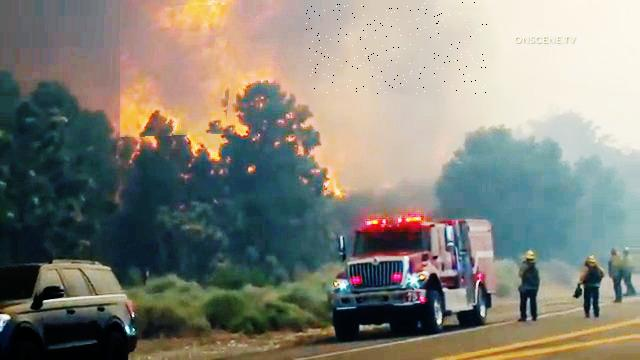fire: (121, 6, 242, 141)
smoke: (306, 2, 487, 94)
